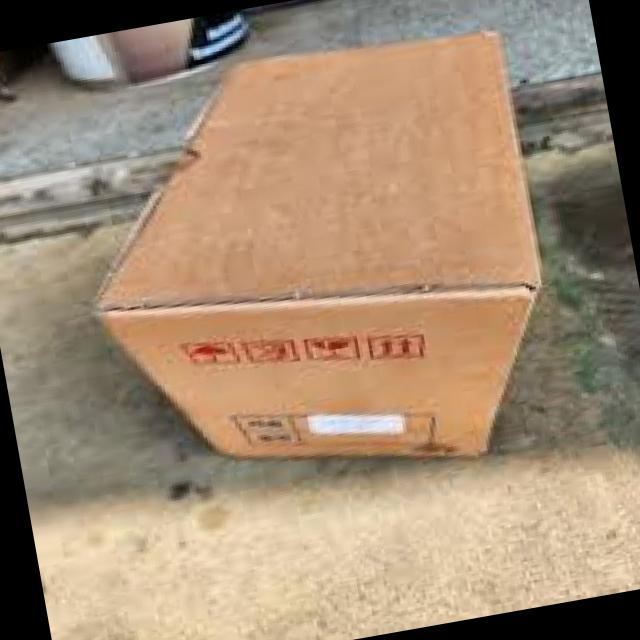box: (94, 31, 544, 459)
